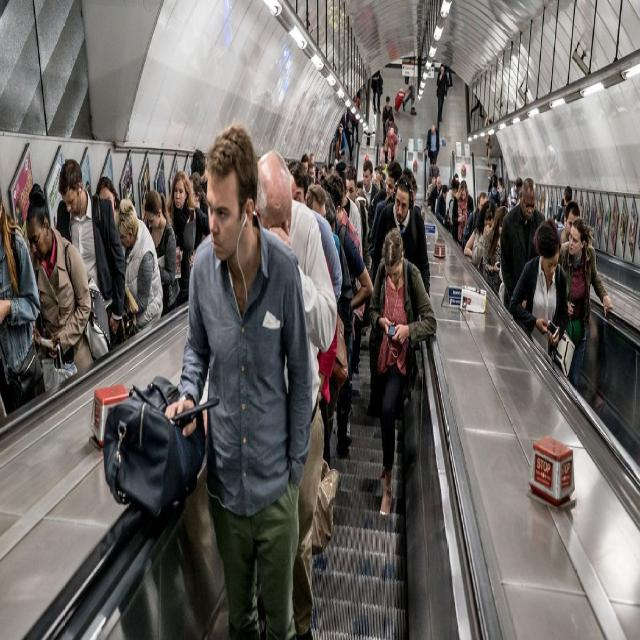body: (163, 123, 315, 639), (254, 150, 338, 640), (368, 226, 438, 516), (25, 180, 95, 396), (55, 157, 127, 349), (226, 28, 334, 148), (323, 191, 374, 442), (0, 188, 46, 417), (556, 215, 614, 390), (181, 142, 223, 364), (509, 218, 568, 360), (371, 179, 431, 310), (326, 172, 364, 377), (288, 157, 342, 300), (113, 196, 164, 336), (499, 176, 547, 315), (370, 173, 420, 298), (305, 180, 350, 296), (144, 187, 181, 319), (167, 168, 200, 310), (344, 0, 416, 62), (580, 311, 611, 426), (371, 161, 404, 258), (345, 163, 370, 275), (506, 141, 568, 186), (483, 205, 509, 302), (471, 199, 498, 280), (462, 190, 488, 249), (452, 179, 474, 248), (94, 173, 122, 224), (442, 1, 458, 90), (345, 163, 363, 233), (557, 199, 582, 249), (356, 158, 379, 211), (434, 60, 448, 134), (445, 178, 460, 235), (424, 124, 441, 168), (350, 89, 361, 152), (427, 174, 443, 217), (506, 176, 524, 214), (401, 76, 418, 116), (383, 123, 397, 171), (556, 185, 574, 222), (381, 93, 394, 142), (485, 113, 497, 166), (435, 184, 449, 228), (370, 69, 383, 114), (333, 121, 347, 161), (469, 93, 486, 123), (436, 184, 448, 224), (378, 138, 392, 170), (487, 162, 499, 198), (373, 158, 386, 188), (343, 109, 351, 157), (496, 177, 508, 207), (486, 176, 498, 205), (306, 158, 318, 185), (384, 113, 397, 135), (425, 176, 436, 201), (464, 232, 474, 257), (557, 197, 566, 224), (300, 153, 310, 175), (428, 158, 436, 184), (357, 174, 363, 198), (319, 158, 329, 171), (517, 190, 523, 203)
